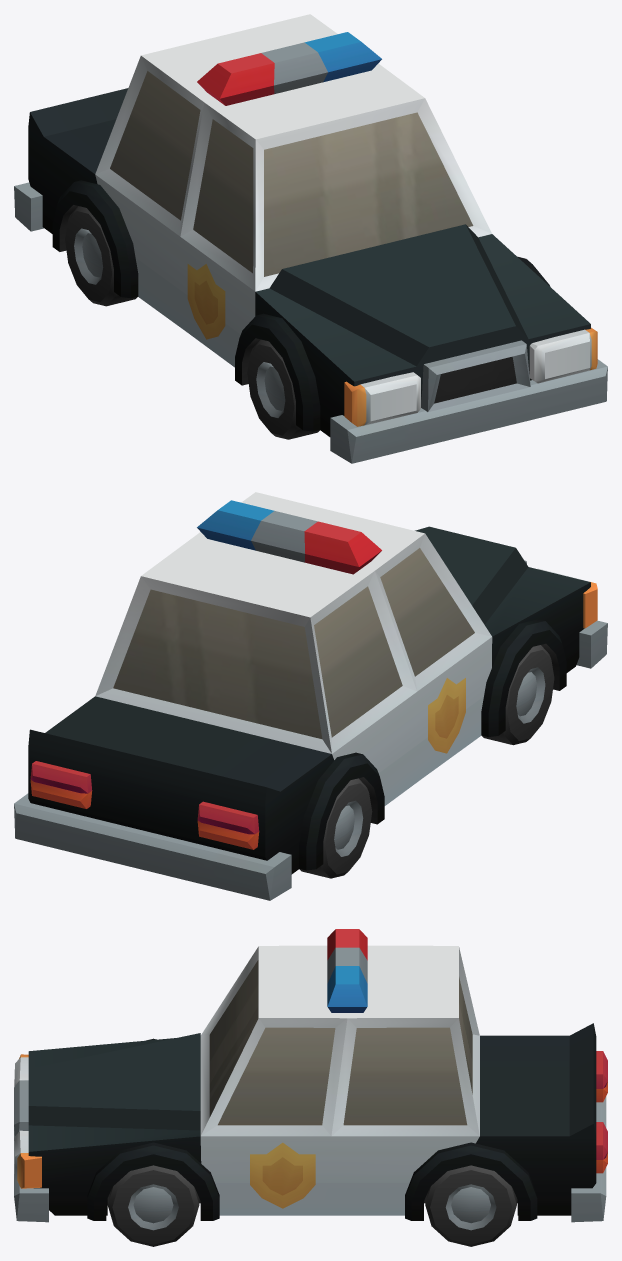
File: police-car.glb
3 views of the same model, one above another, from view 1: azimuth 30°, elevation 25°; view 2: azimuth 150°, elevation 25°; view 3: azimuth 270°, elevation 25° (orthographic). The views are drawn at different scales.
Parts seen in each view (by area): view 1: car_police, car_police_wheel_rear_right, car_police_wheel_front_right; view 2: car_police, car_police_wheel_front_right, car_police_wheel_rear_right; view 3: car_police, car_police_wheel_front_left, car_police_wheel_rear_left.
Boxes of the visible parts, bbox=[...] form: car_police: bbox=[14, 14, 607, 463]; car_police_wheel_rear_right: bbox=[65, 206, 137, 306]; car_police_wheel_front_right: bbox=[247, 339, 319, 439]; car_police: bbox=[14, 492, 607, 900]; car_police_wheel_front_right: bbox=[482, 645, 554, 745]; car_police_wheel_rear_right: bbox=[299, 778, 372, 878]; car_police: bbox=[14, 929, 607, 1222]; car_police_wheel_front_left: bbox=[107, 1165, 199, 1246]; car_police_wheel_rear_left: bbox=[425, 1165, 516, 1246].
Size of the model in its own units: 0.419 by 0.4126 by 0.9381.
1 material, 1 textured.
